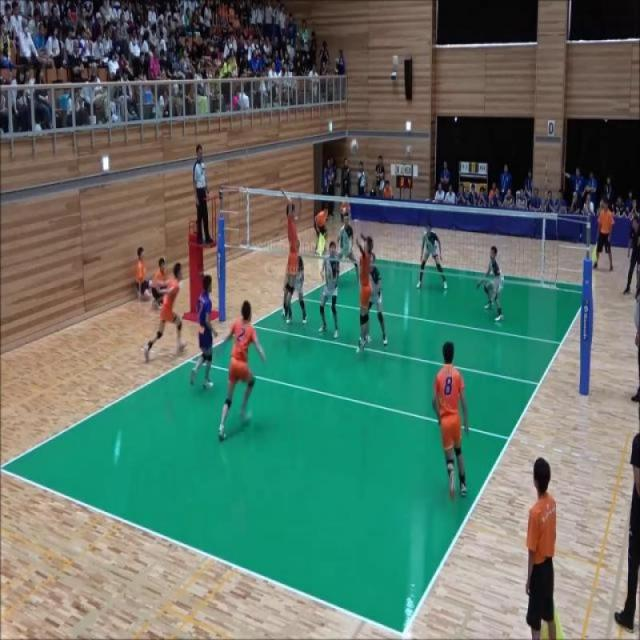volleyball: (348, 138, 359, 154)
